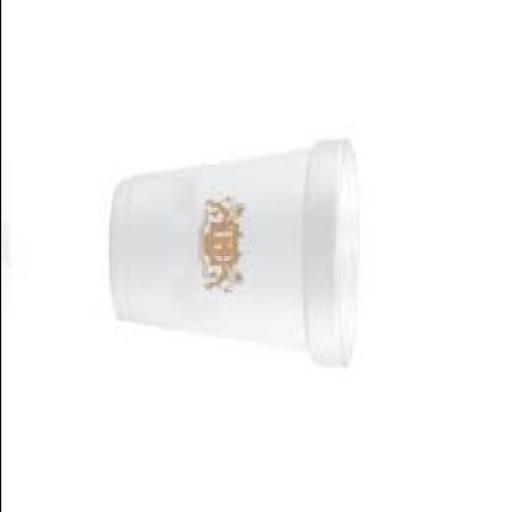paper: (108, 145, 356, 369)
